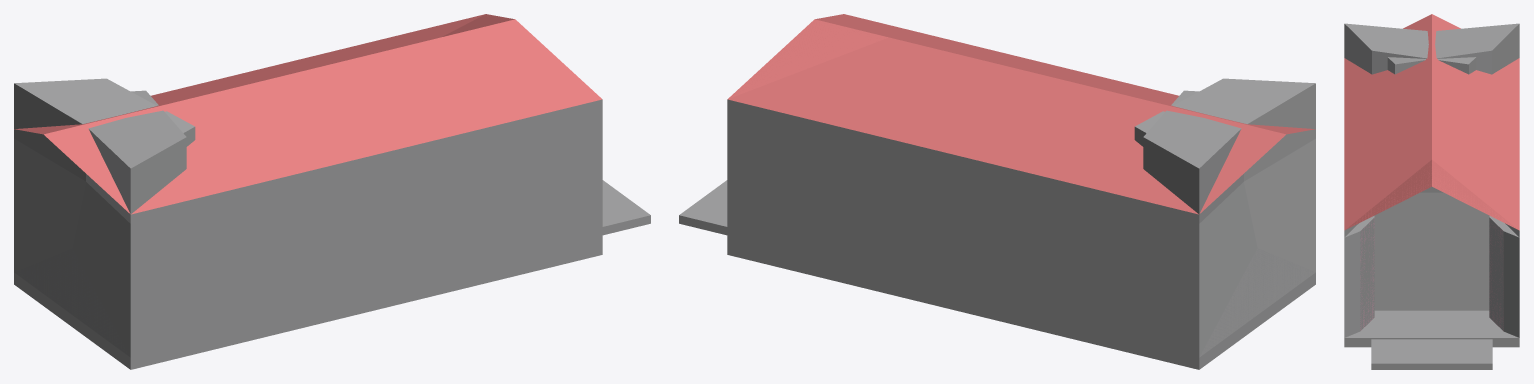
The picture shows the model from 3 angles, left to right: view 1: azimuth 30°, elevation 25°; view 2: azimuth 150°, elevation 25°; view 3: azimuth 270°, elevation 25°; orthographic projection. The views are drawn at different scales.
Visible parts, largest first — view 1: Cube; view 2: Cube; view 3: Cube.
Part boxes in pixels (x1=…): Cube: x1=14, y1=14, x2=650, y2=369; Cube: x1=679, y1=14, x2=1315, y2=369; Cube: x1=1344, y1=14, x2=1519, y2=369.
Size of the model in its own units: 2082 by 706 by 742.
